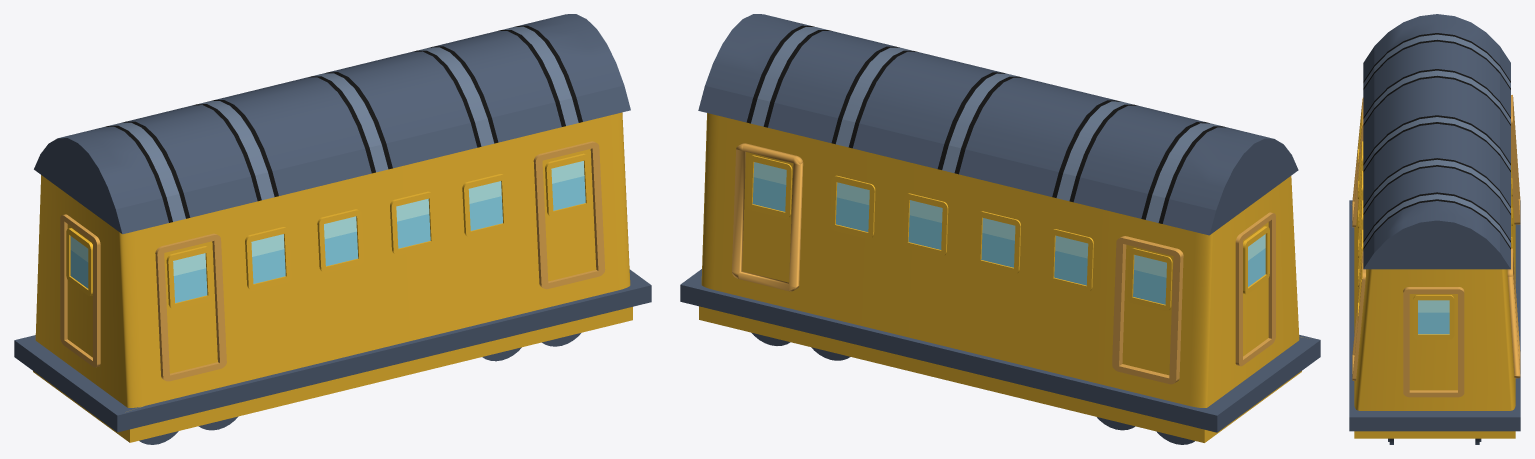
Rendered from train3.glb.
3 views of the same model, side by side, from view 1: azimuth 30°, elevation 25°; view 2: azimuth 150°, elevation 25°; view 3: azimuth 270°, elevation 25° (orthographic). The views are drawn at different scales.
Parts seen in each view (by area): view 1: yellow train.001; view 2: yellow train.001; view 3: yellow train.001.
Part boxes in pixels (box(x1,y1,x2,y2)): yellow train.001: box(14, 14, 651, 444); yellow train.001: box(680, 14, 1320, 444); yellow train.001: box(1349, 14, 1520, 444).
Bounding box in the file's own units: 12.65 × 6.62 × 4.22.
